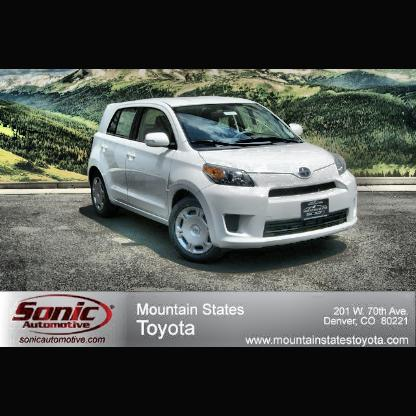Scion xD Hatchback 2012: (88, 95, 360, 263)
